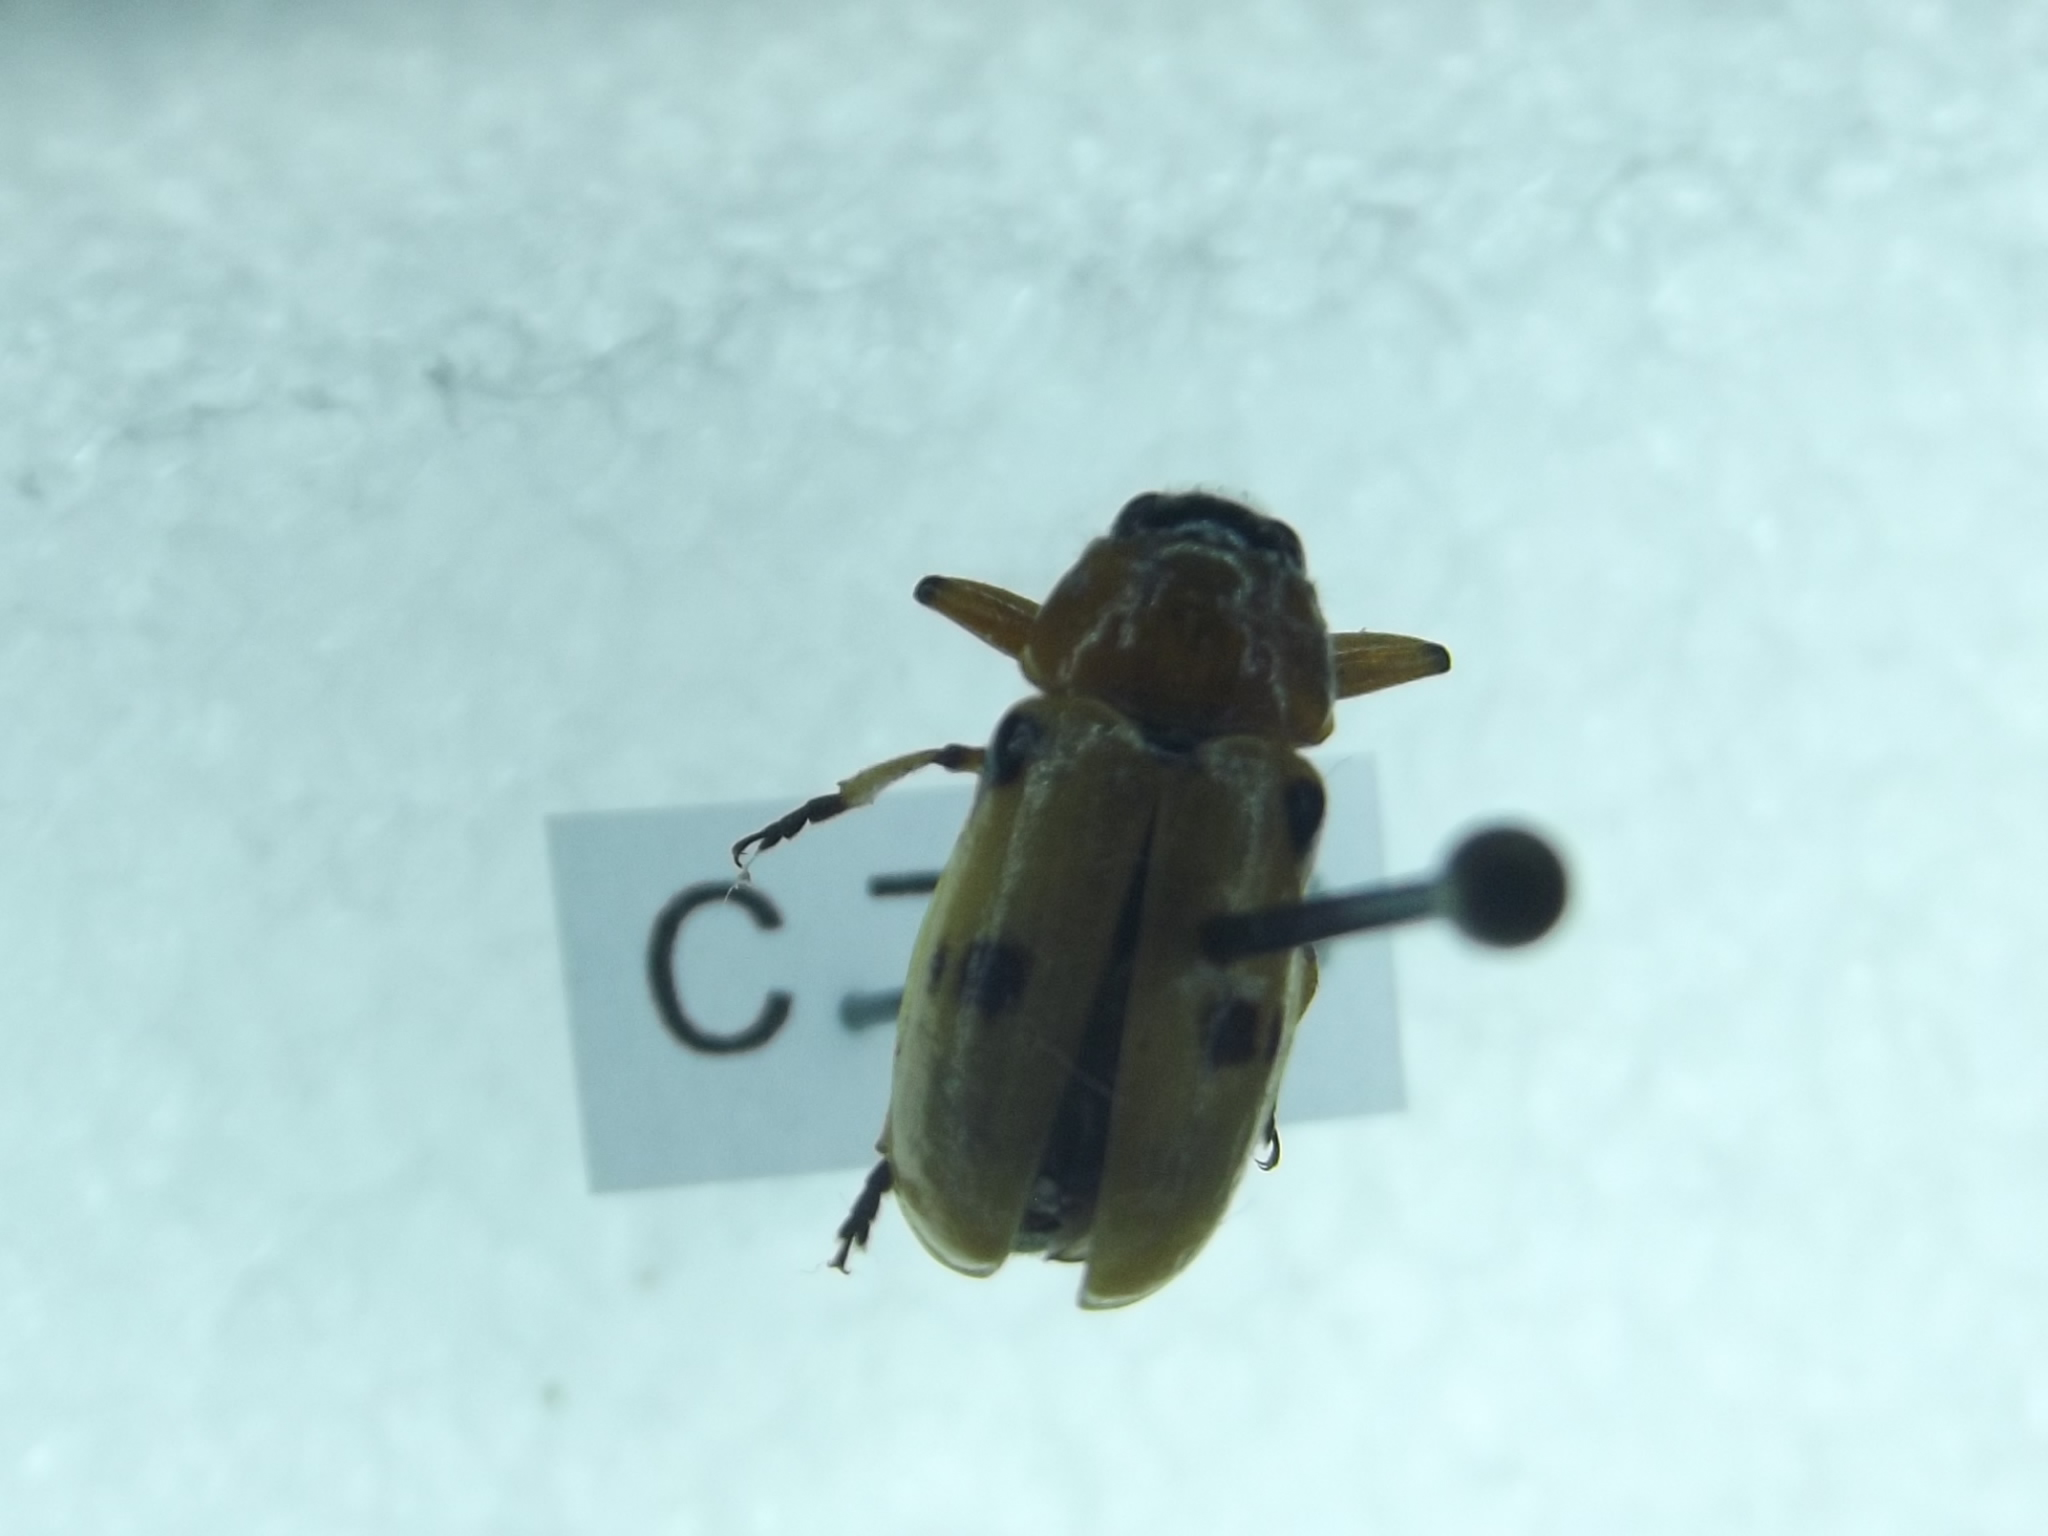Tituboea_macropus: (689, 461, 1451, 1350)
